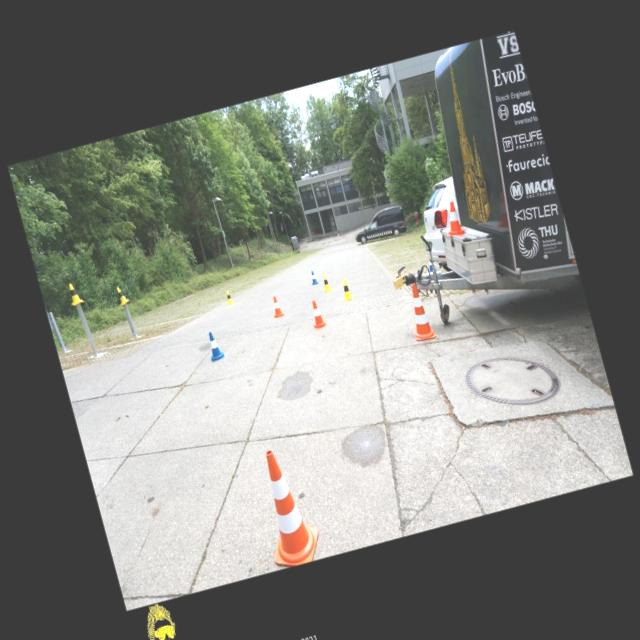blue_cone: (203, 330, 224, 362), (308, 270, 318, 286)
large_orange_cone: (246, 443, 324, 570), (401, 280, 436, 342)
orange_cone: (438, 200, 466, 238), (306, 297, 328, 329), (268, 294, 286, 318)
yellow_cone: (65, 280, 84, 306), (338, 277, 355, 301), (116, 284, 131, 306), (320, 272, 333, 292), (223, 289, 234, 306)
